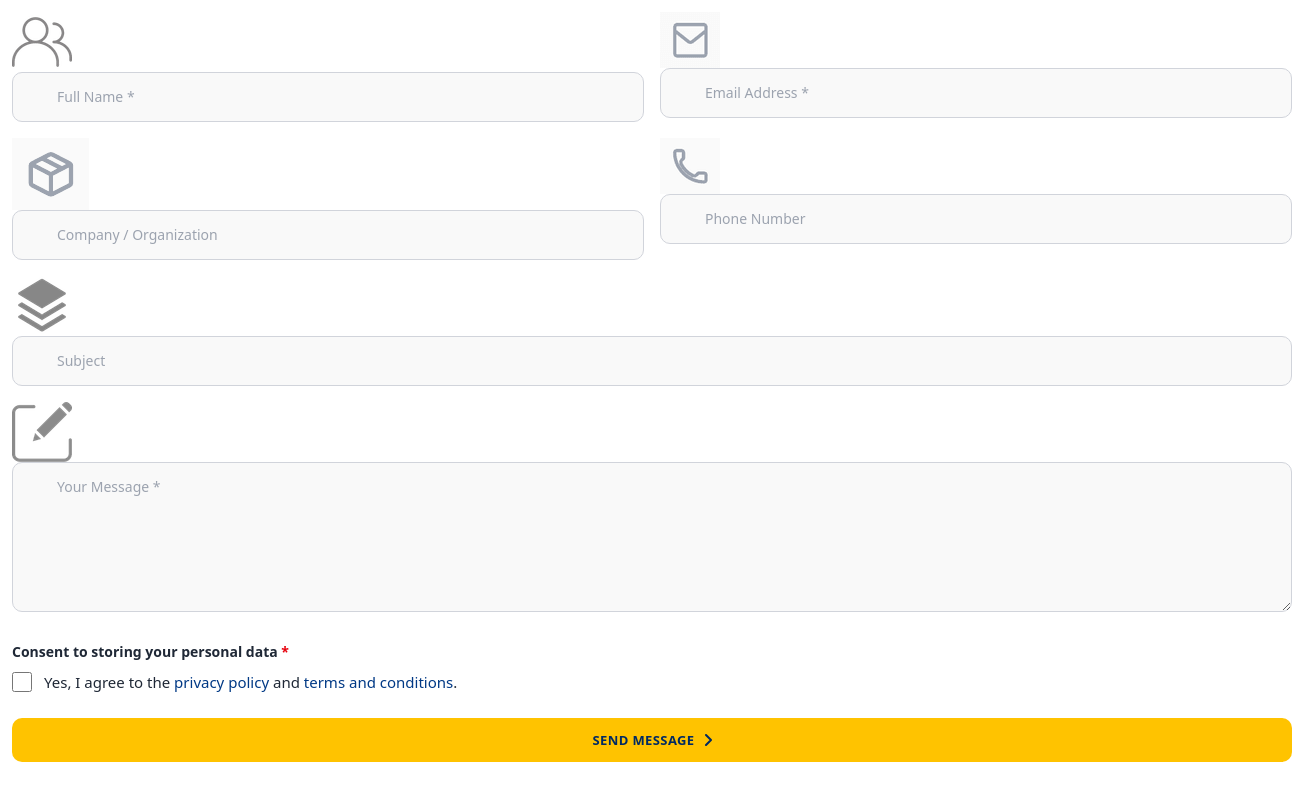
it: ContactForm — failure handling › clears the error banner once the visitor edits a field
Type "Somchai Jaidee" into the field labelled "Full Name" at (328, 97), box [12,72,644,122]
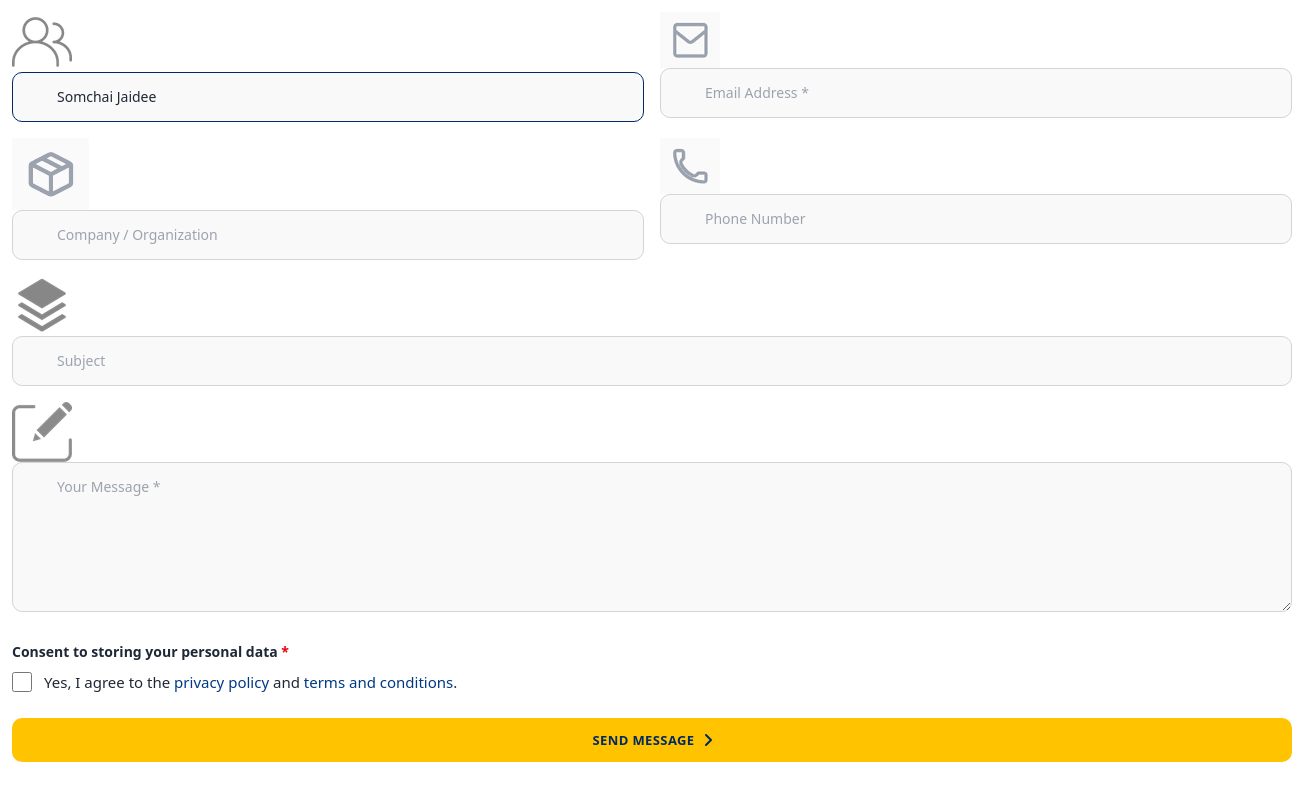
Type "somchai@example.co.th" into the field labelled "Email Address" at (976, 93), box [660,68,1292,118]
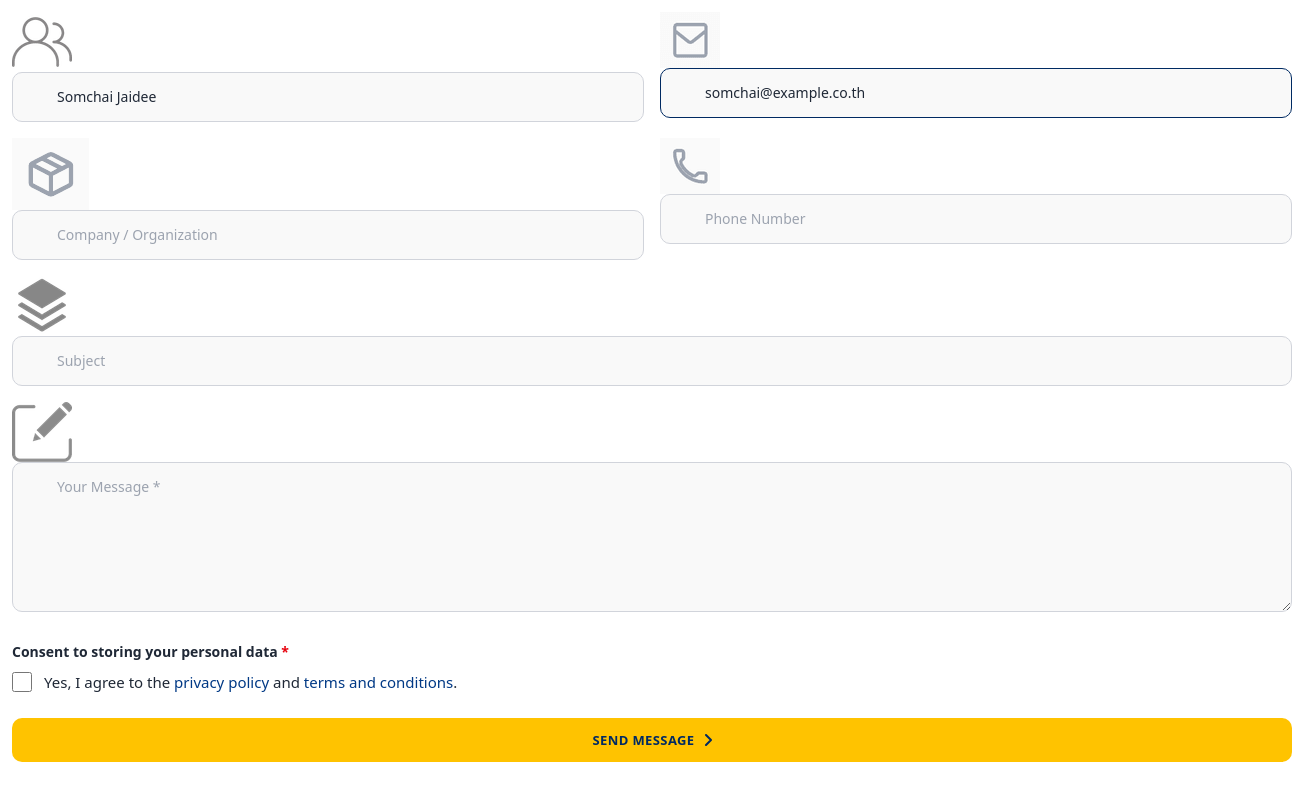
Type "We would like a quote." into the text box labelled "Your Message" at (652, 537), box [12,462,1292,612]
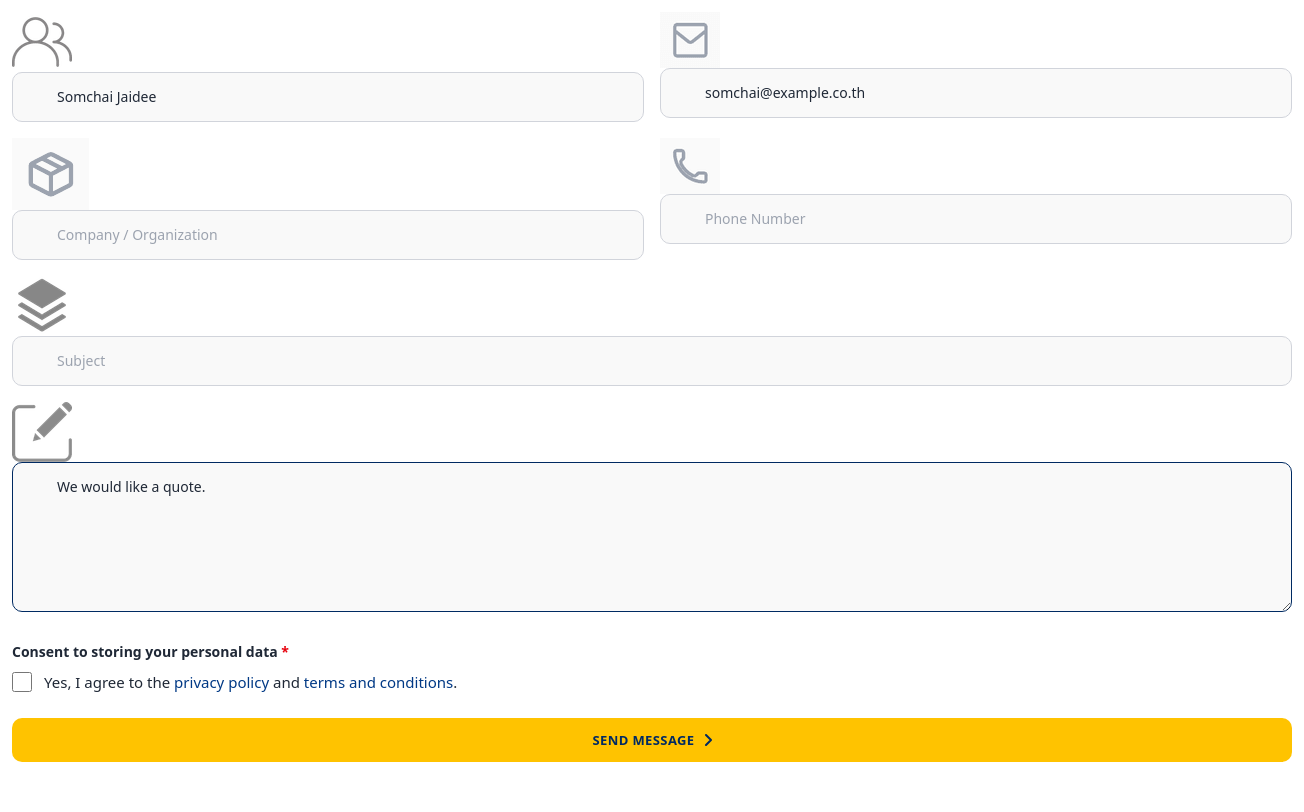
Click the checkbox at (22, 682), box [12,672,32,692]
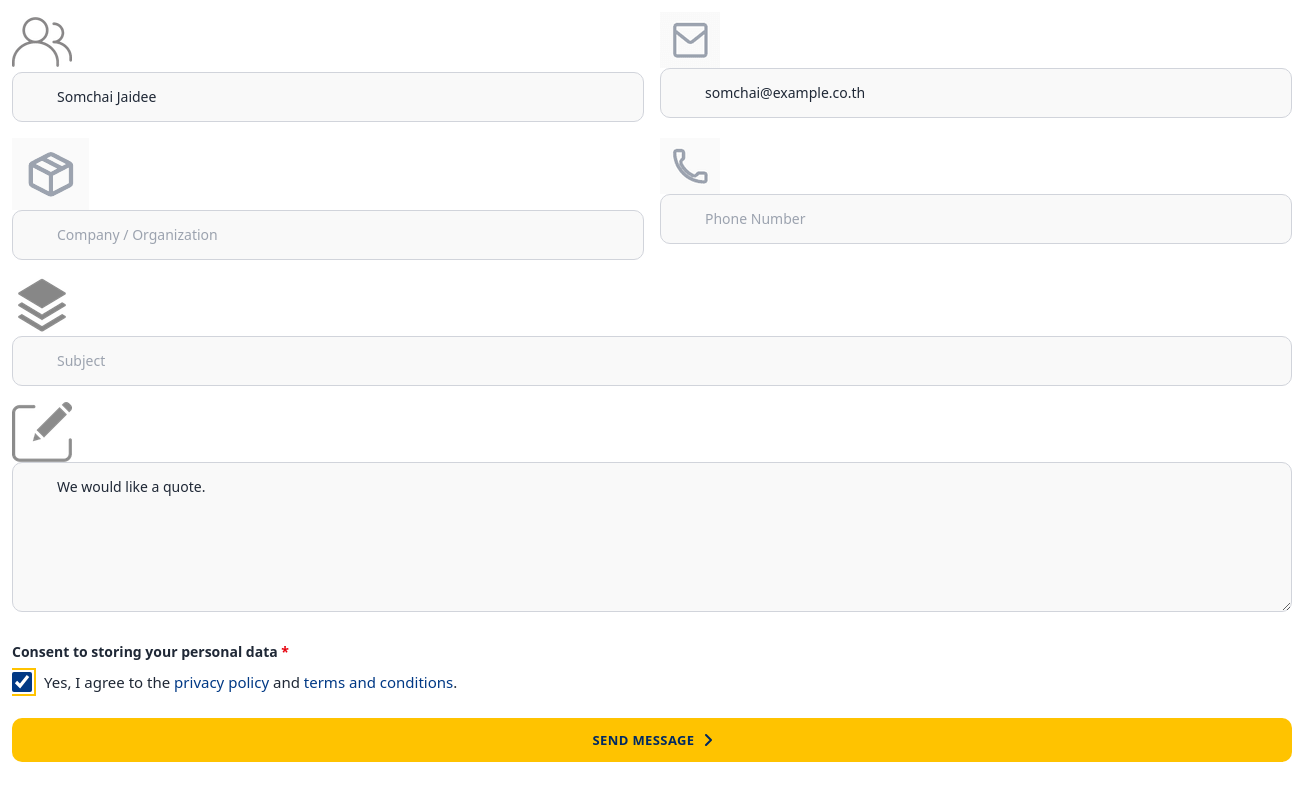
Click the button "Send Message" at (652, 740), box [12,718,1292,762]
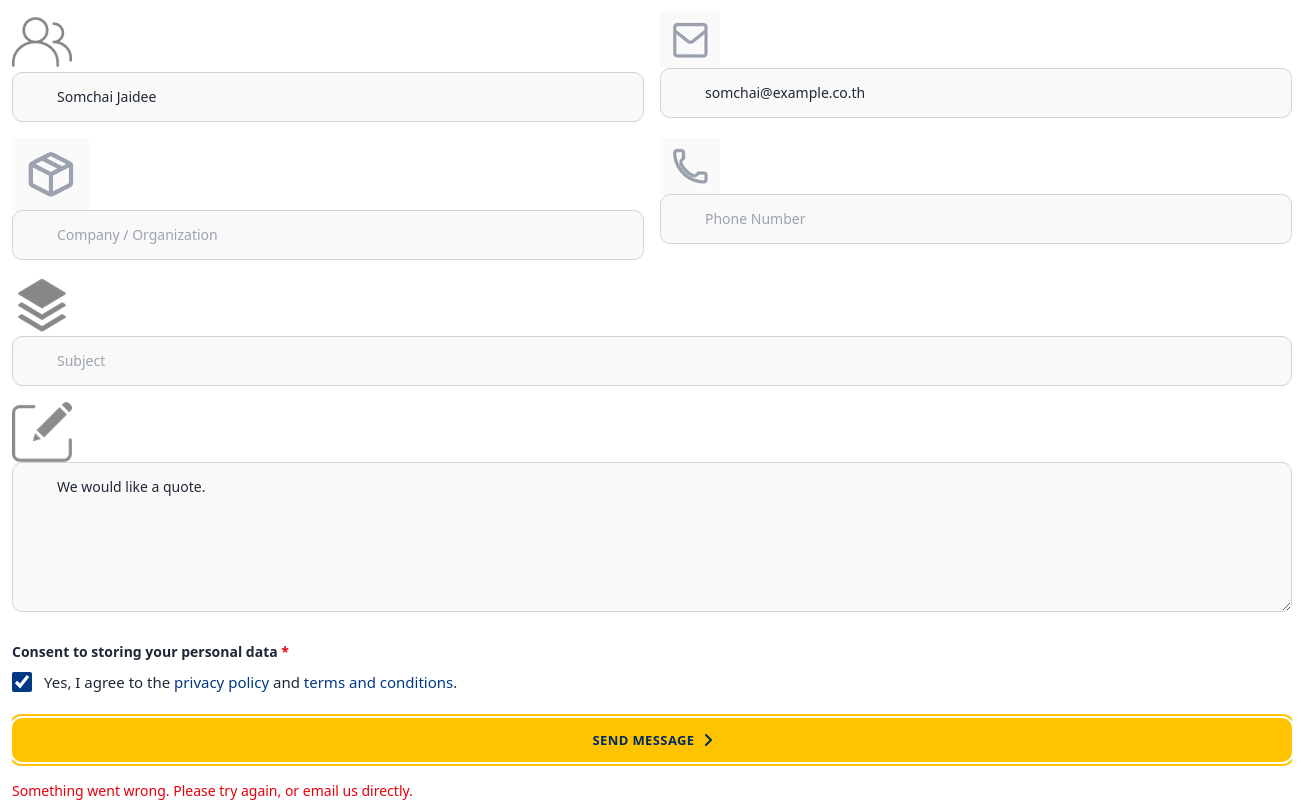
Now the text "Something went wrong. Please try again, or email us directly." is shown, box [12,781,413,800]
Type "!" into the field named "Full Name" at (328, 97), box [12,72,644,122]
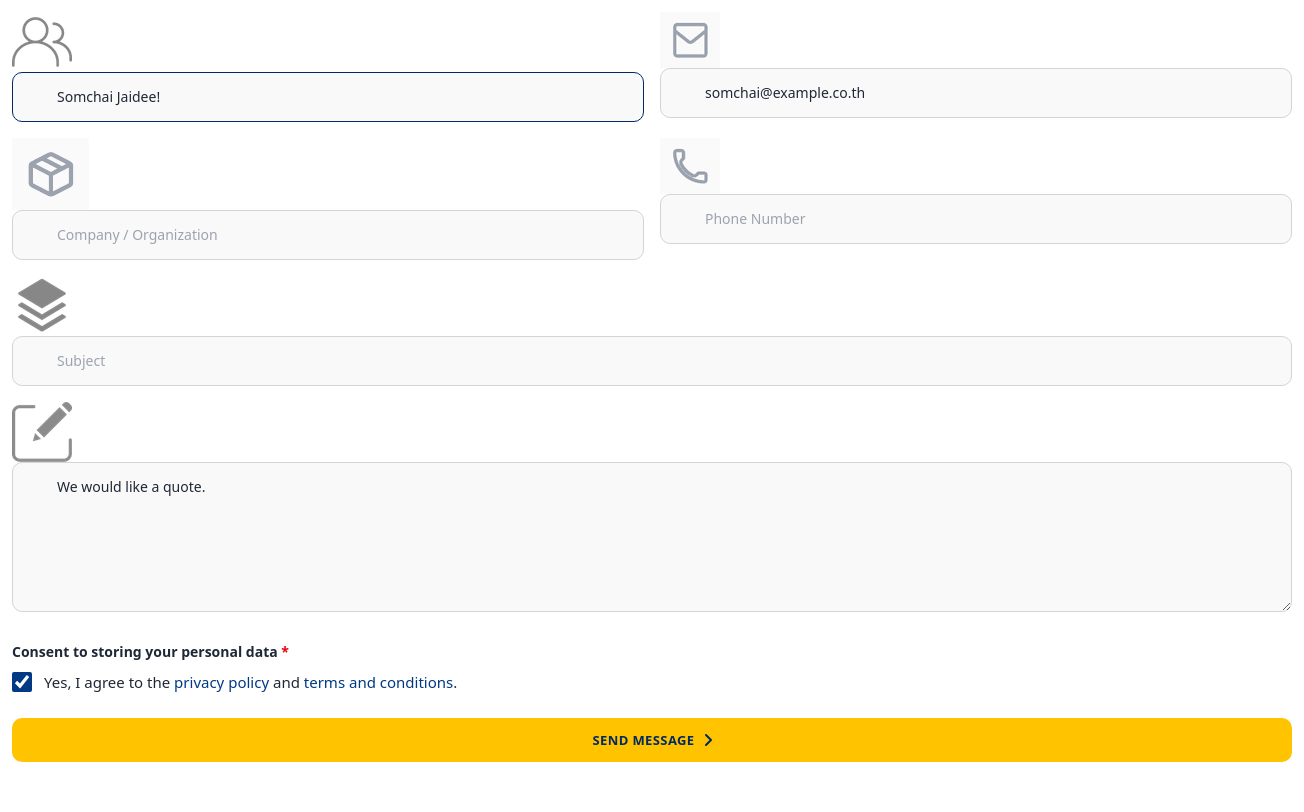
Now the text "Something went wrong. Please try again, or email us directly." is gone
